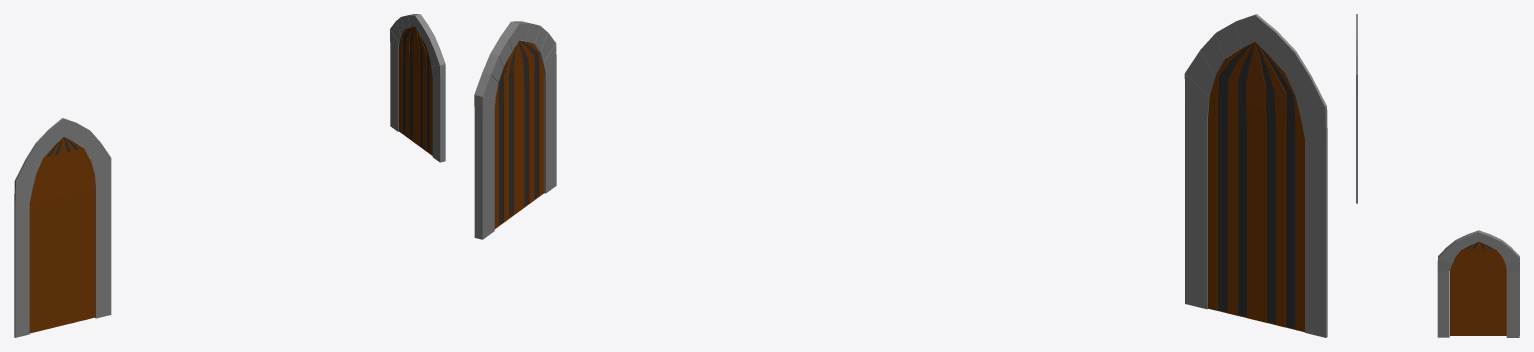
The model's file is PORTAS.fbx.
3 views of the same model, side by side, from view 1: azimuth 30°, elevation 25°; view 2: azimuth 150°, elevation 25°; view 3: azimuth 270°, elevation 25° (orthographic). The views are drawn at different scales.
Visible parts, largest first — view 1: PORTAS; view 2: PORTAS; view 3: PORTAS.
Part boxes in pixels (x1=…): PORTAS: x1=14, y1=14, x2=445, y2=337; PORTAS: x1=474, y1=14, x2=1327, y2=337; PORTAS: x1=1356, y1=14, x2=1519, y2=337.
Size of the model in its own units: 865 by 358 by 312.
